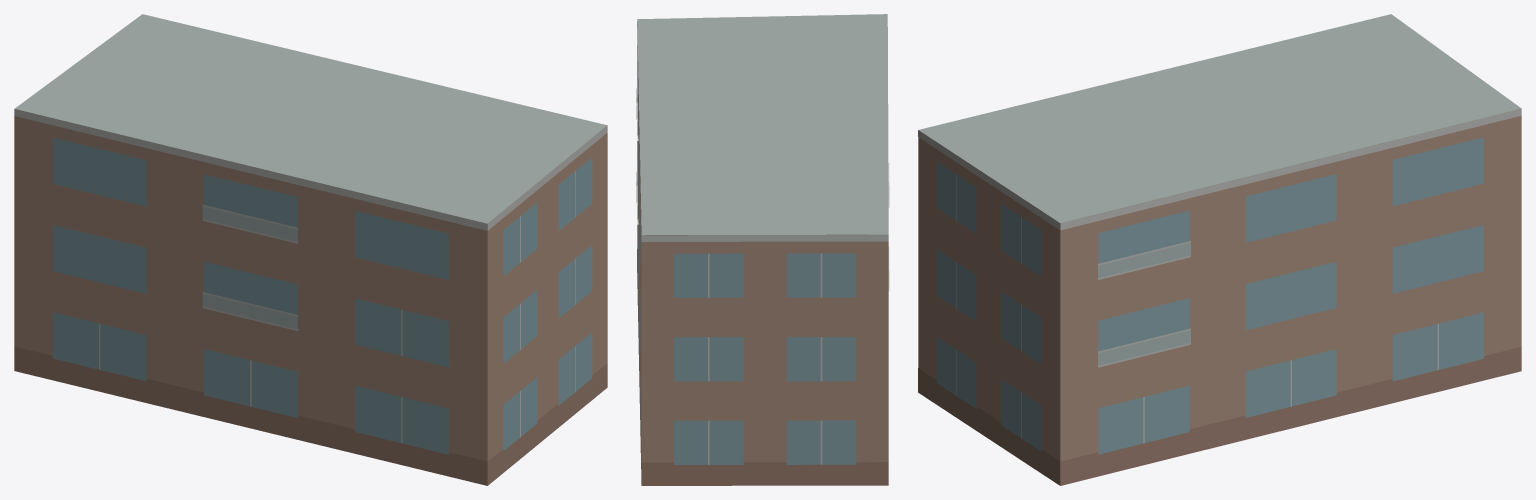
The model's file is survey-upis-32967597.glb.
3 renders of one model, left to right at view 1: azimuth 30°, elevation 25°; view 2: azimuth 150°, elevation 25°; view 3: azimuth 270°, elevation 25°, orthographic. The views are drawn at different scales.
Visible parts, largest first — view 1: survey-upis-32967597.tmp; view 2: survey-upis-32967597.tmp; view 3: survey-upis-32967597.tmp.
Part boxes in pixels (box(x1,y1,x2,y2)): survey-upis-32967597.tmp: box(14, 14, 607, 485); survey-upis-32967597.tmp: box(636, 14, 889, 485); survey-upis-32967597.tmp: box(918, 14, 1521, 485).
Bounding box in the file's own units: 15.22 × 8.9 × 18.54.
